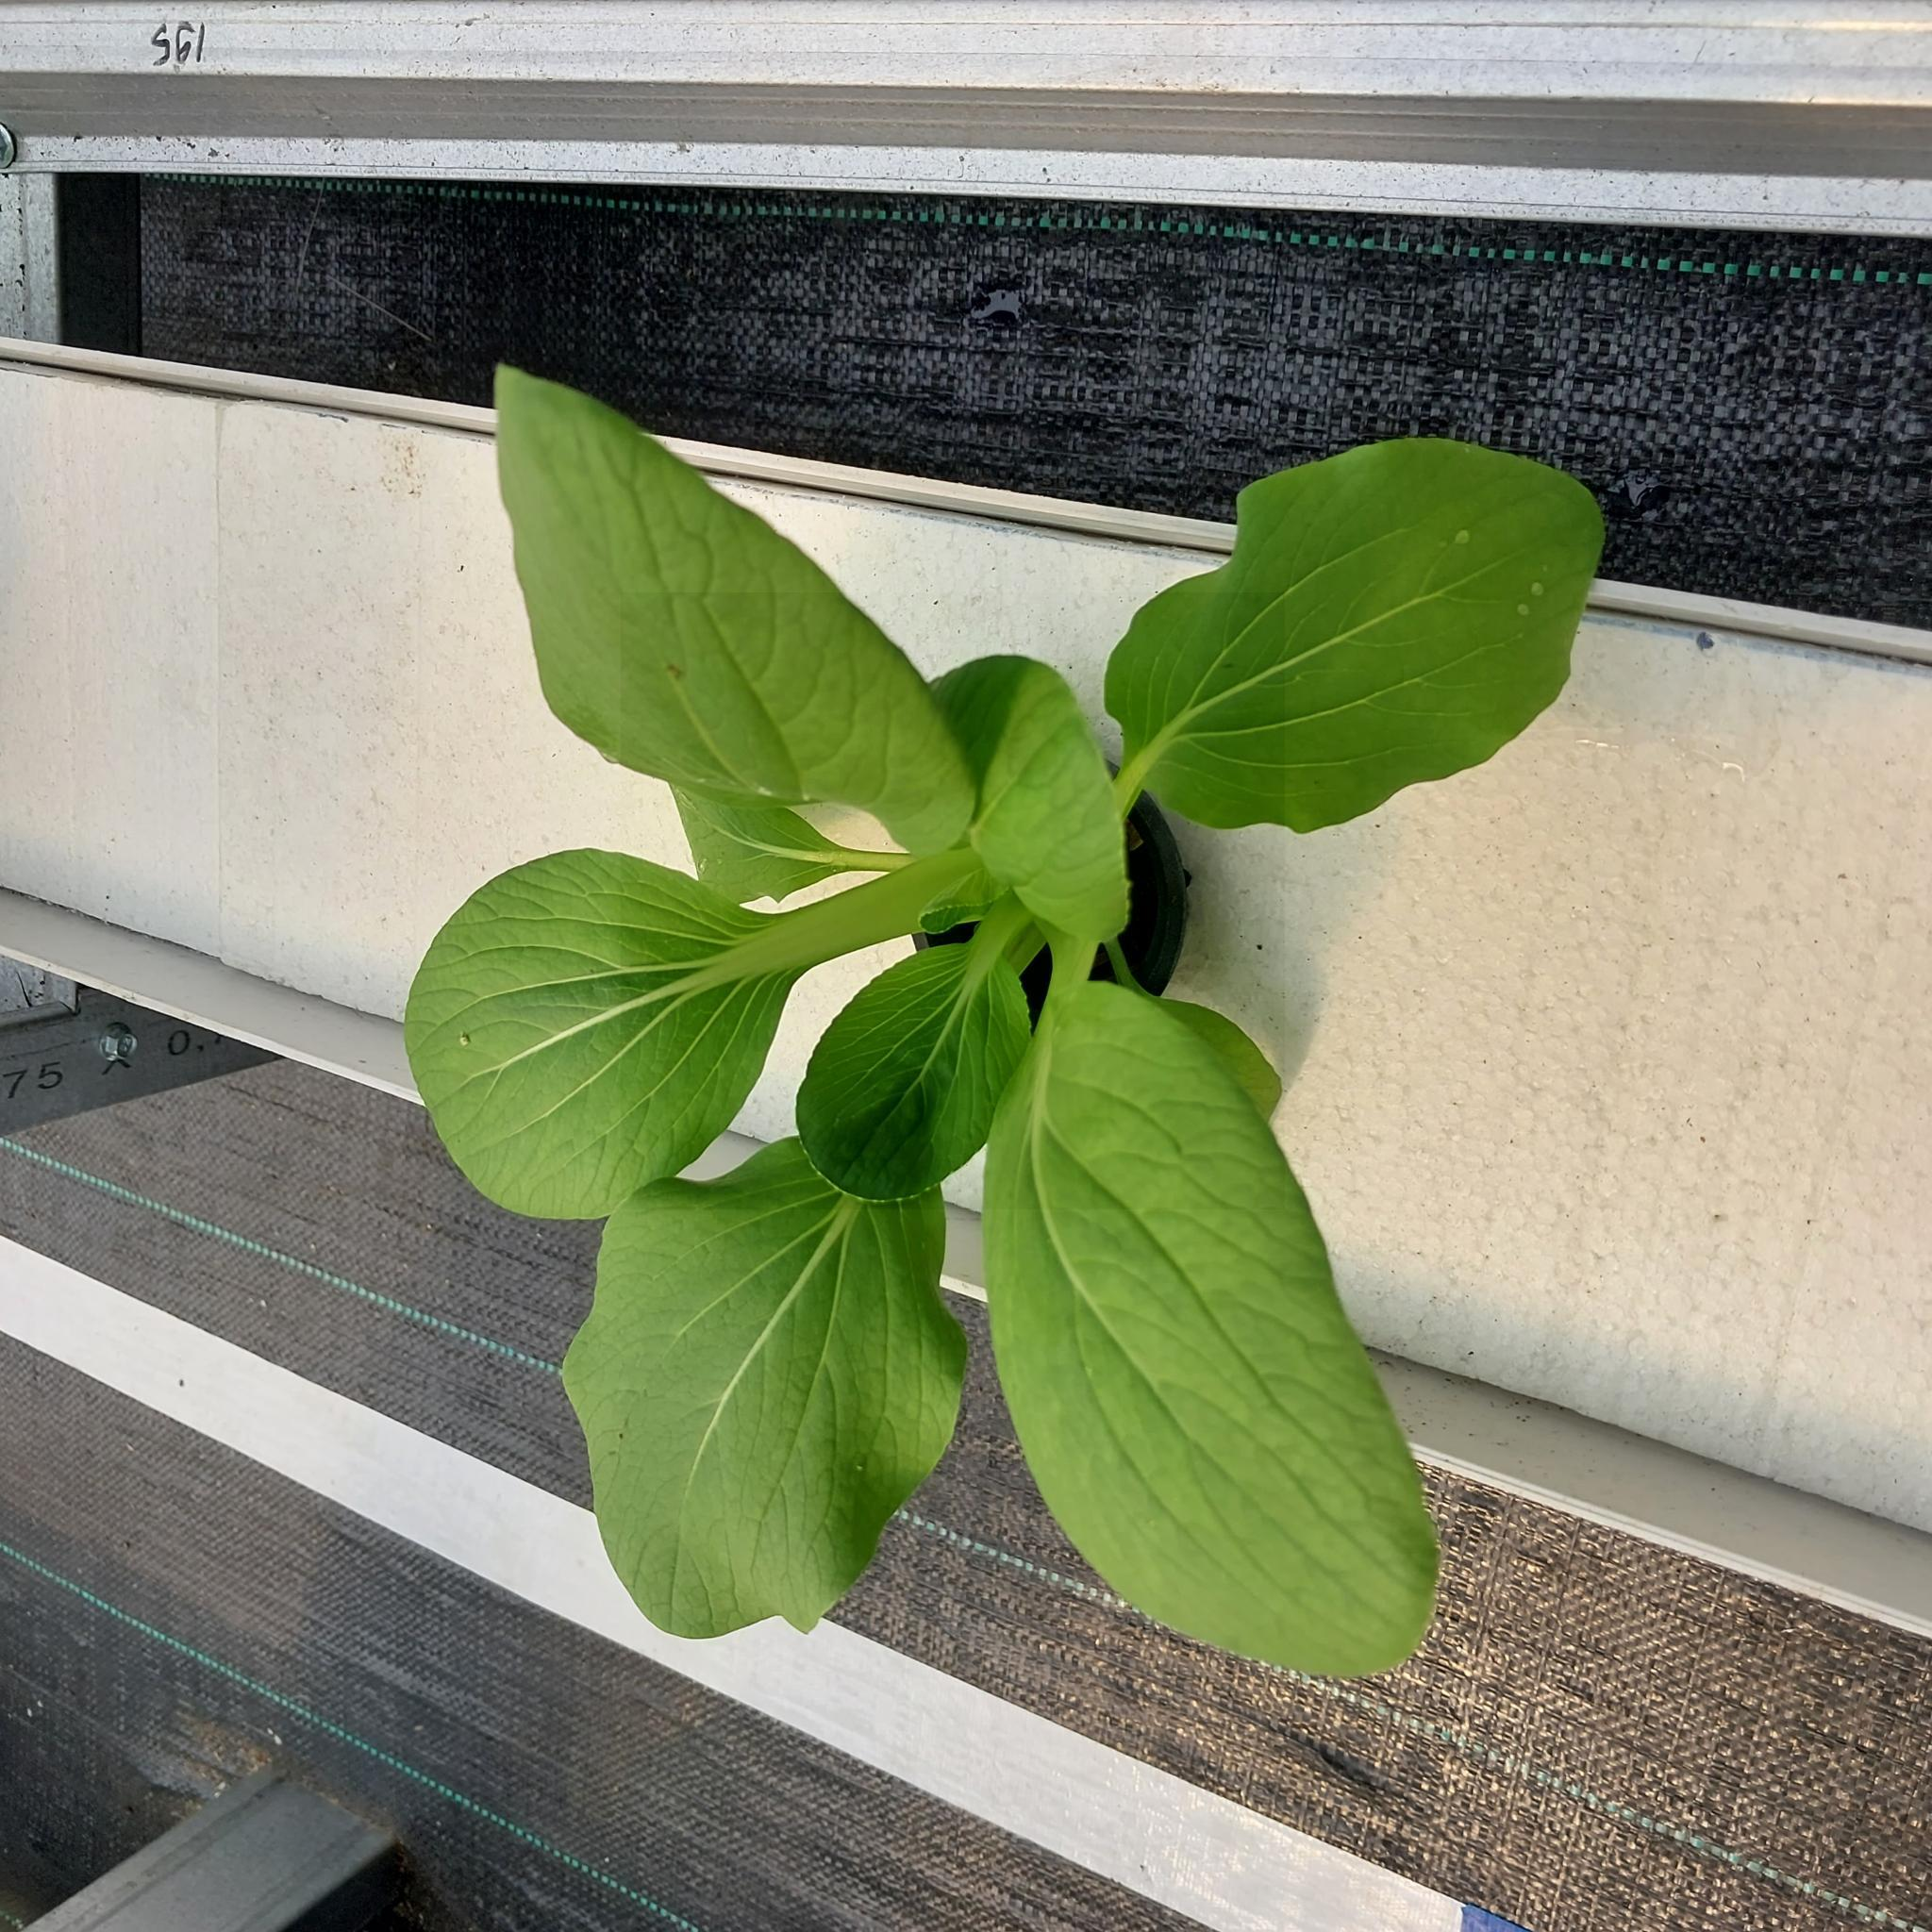Healthy-Pechay: (987, 973, 1408, 1681), (490, 356, 982, 860), (566, 1131, 959, 1649), (1113, 433, 1608, 832), (402, 851, 860, 1217), (794, 929, 1031, 1203)
